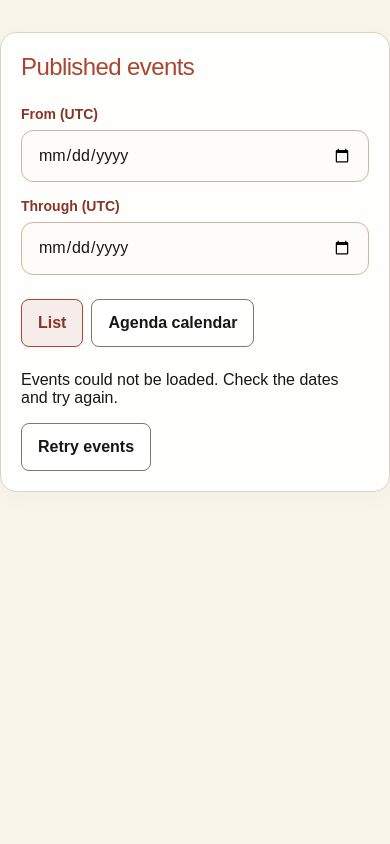
it: event discovery and calendar FR-11 › shows failure and retries without presenting stale results
Expected: the message "Events could not be loaded. Check the dates and try again." is shown, [21, 371, 369, 407]
Click the button "Retry events" at [86, 447], box [21, 423, 151, 471]
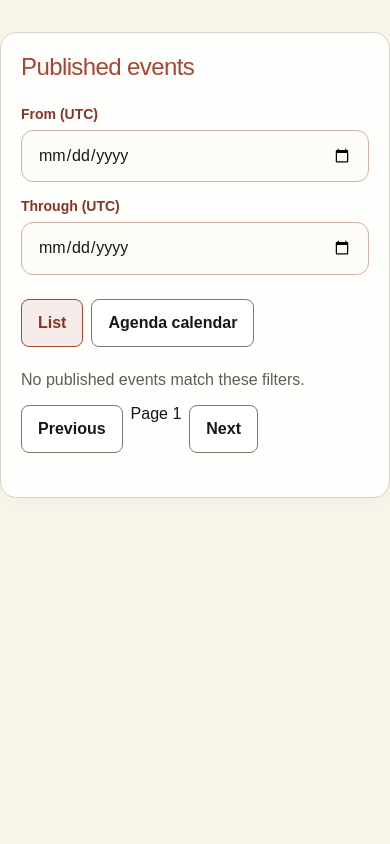
Now the text "No published events match these filters." is shown, box [21, 371, 305, 388]
